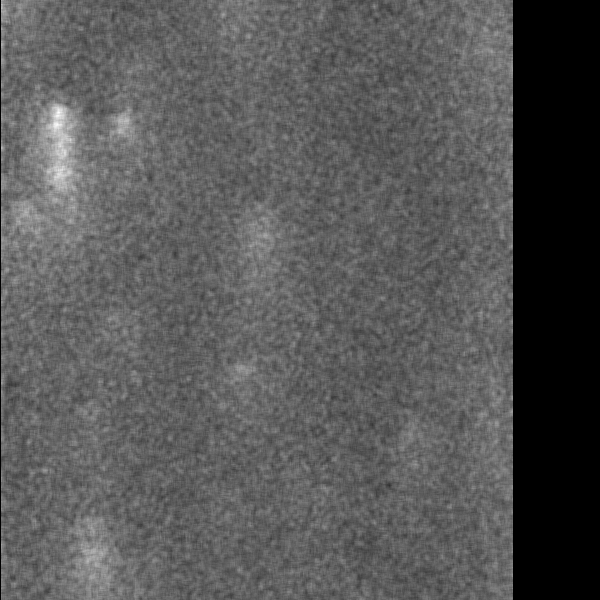spark: (36, 98, 74, 316), (54, 515, 104, 598), (106, 96, 138, 180), (223, 359, 258, 399), (254, 212, 273, 285), (17, 195, 32, 241)
